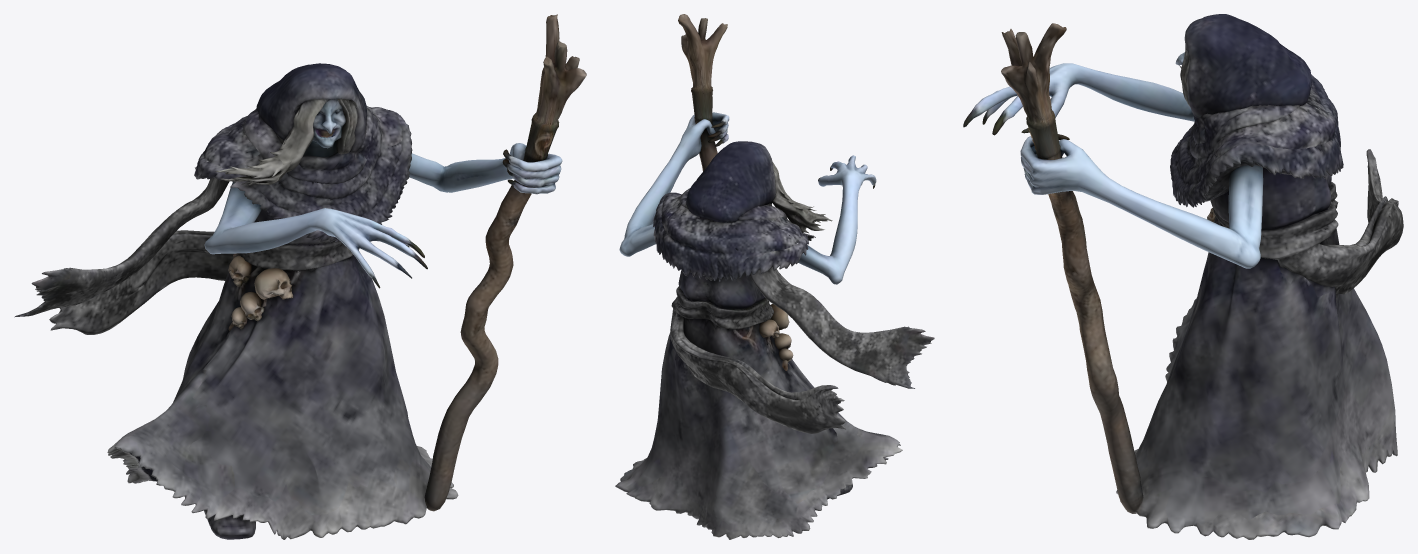
Rendered from MZ4250 - Bheur Hag.glb.
The picture shows the model from 3 angles, left to right: view 1: azimuth 30°, elevation 25°; view 2: azimuth 150°, elevation 25°; view 3: azimuth 270°, elevation 25°; orthographic projection. The views are drawn at different scales.
Parts seen in each view (by area): view 1: Skull Top.001; view 2: Skull Top.001; view 3: Skull Top.001.
Boxes of the visible parts, bbox=[...] form: Skull Top.001: bbox=[14, 14, 586, 539]; Skull Top.001: bbox=[615, 14, 934, 539]; Skull Top.001: bbox=[963, 14, 1403, 539].
Size of the model in its own units: 0.9888 by 1.1 by 0.8129.
Materials: 1 (1 with a texture image).
